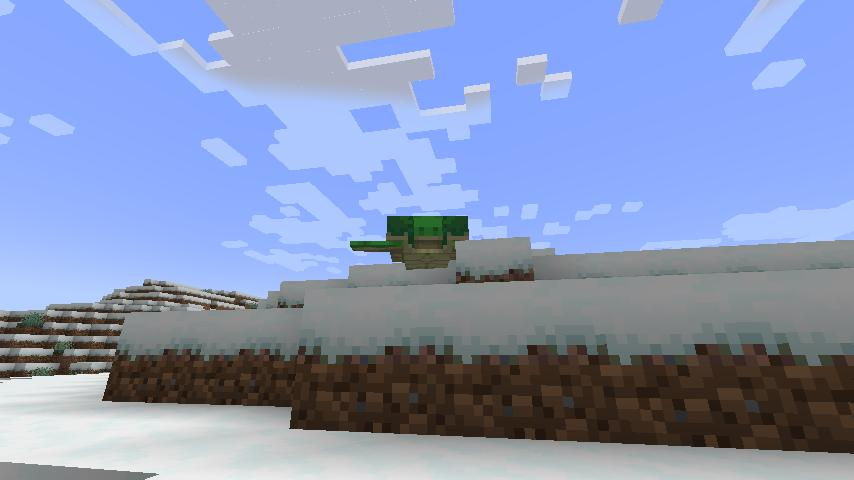turtle: (348, 212, 470, 272)
